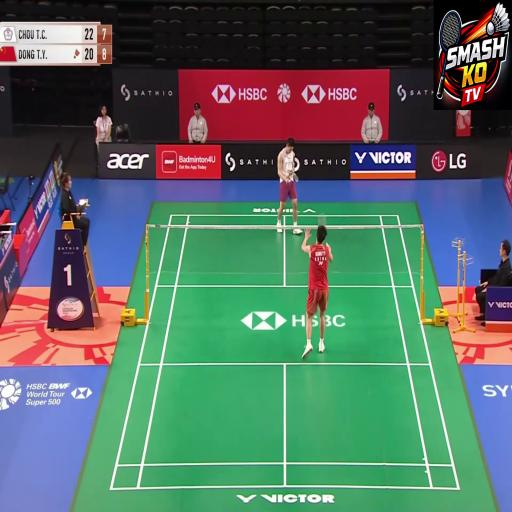player: (304, 222, 340, 374), (265, 122, 302, 244)
